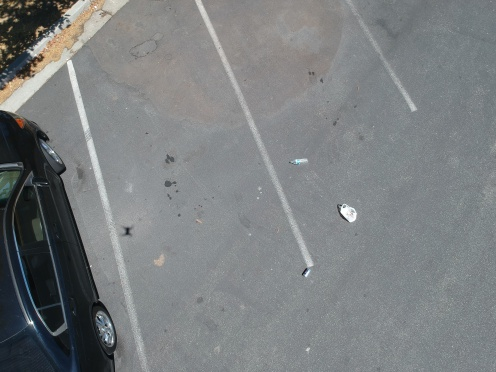bottle: (284, 156, 308, 166)
can: (300, 265, 312, 281)
plastic bag: (336, 199, 360, 226)
